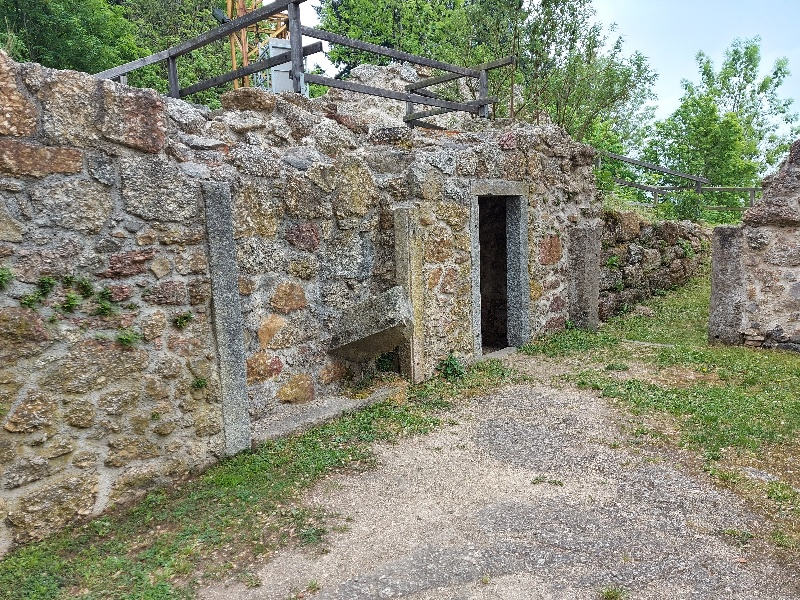door2: (462, 174, 543, 364)
